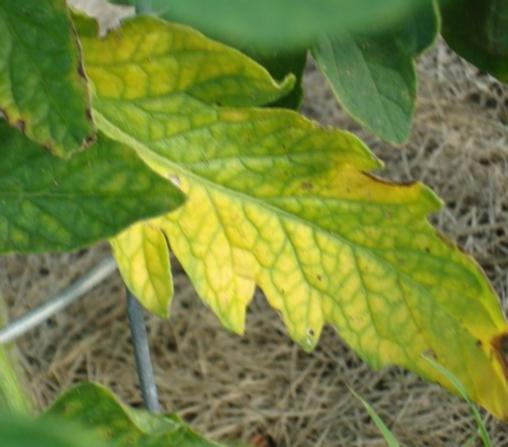Tomato mold leaf: (69, 11, 508, 427), (0, 125, 185, 260), (0, 0, 105, 164)
